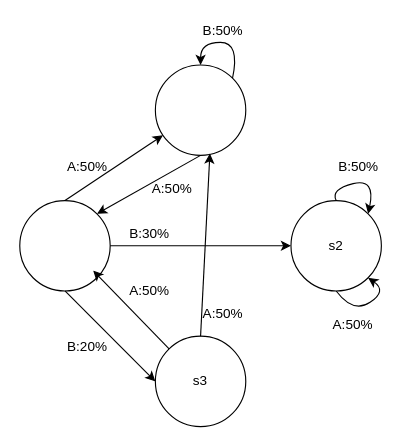
Some shapes in this 401 by 446 pixel diagram are drawn without their labels. Each missing label, with the centre of its shape:
"s0" goes at [64,245].
"s1" goes at [200,109].
